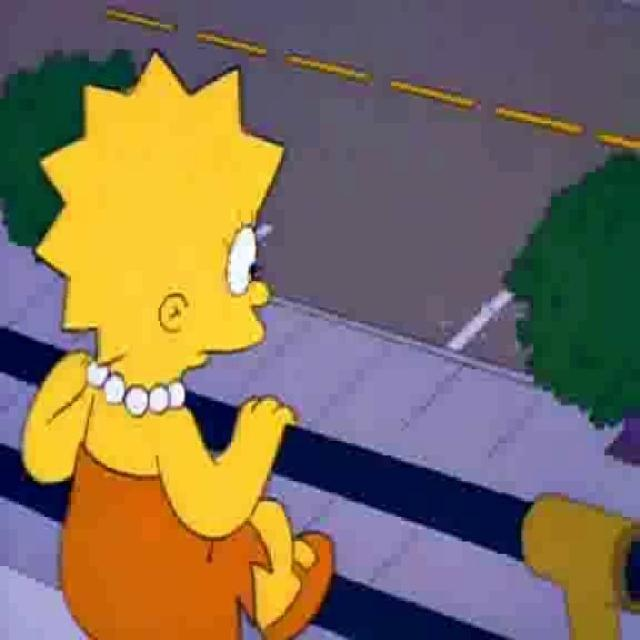Lisa Simpson: (32, 44, 286, 408)
